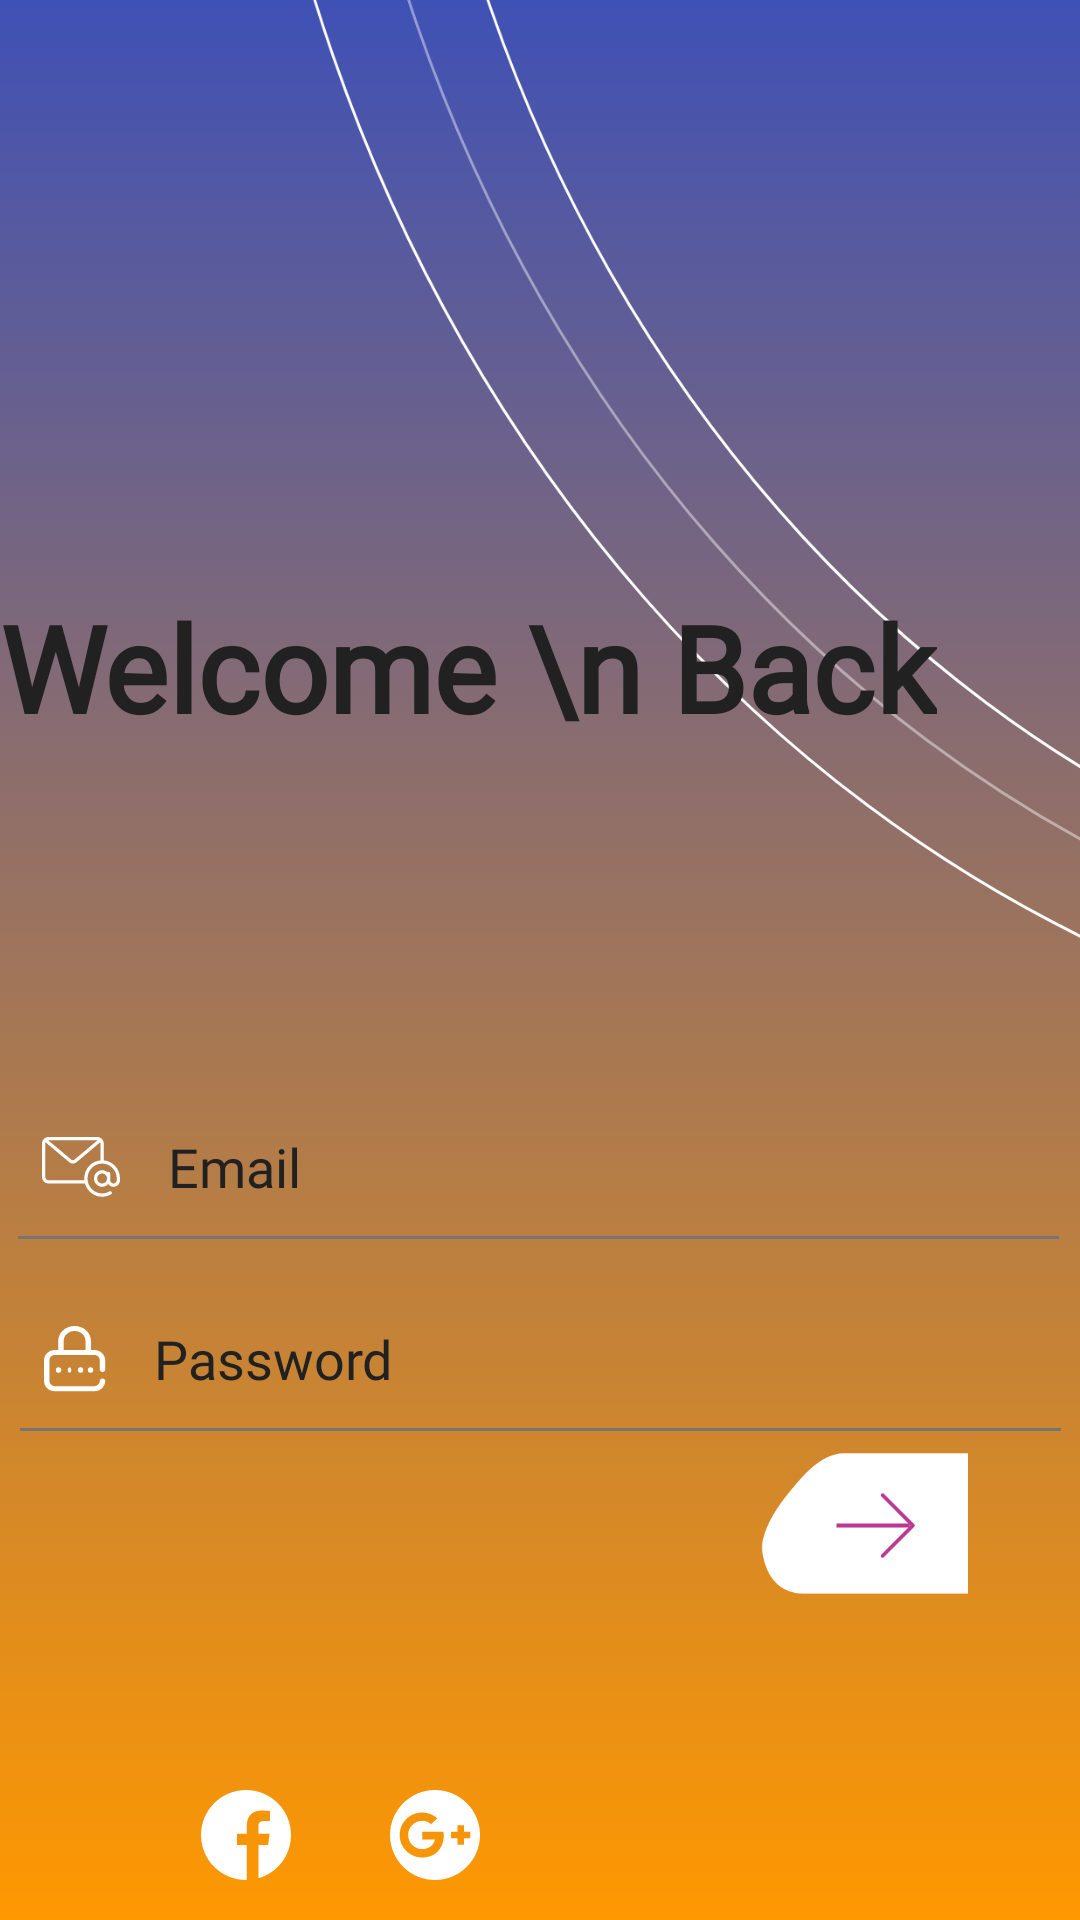

Screen size 1080x1920. Icon name, then its center in pixels as point (x, y):
login: point (865, 1523)
